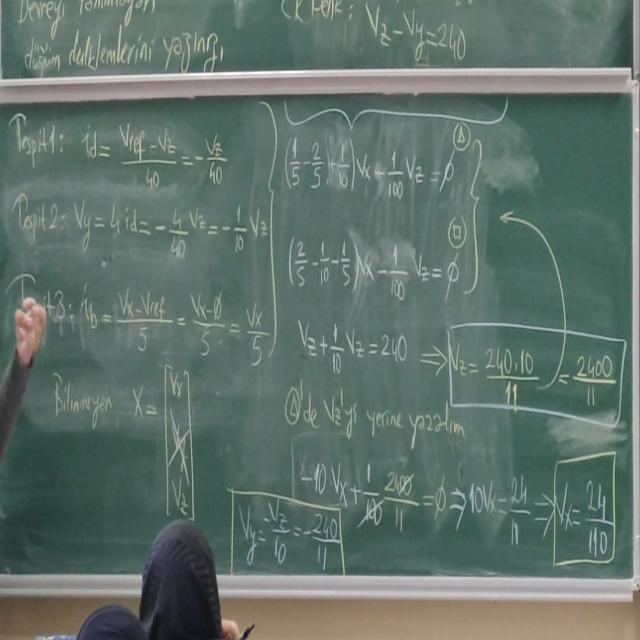math: (313, 446, 532, 556), (69, 272, 273, 370), (284, 220, 462, 309), (280, 126, 466, 206), (65, 190, 271, 262), (447, 338, 621, 422), (79, 119, 240, 186), (234, 494, 341, 578), (295, 316, 412, 384), (555, 478, 613, 559)
text: (23, 28, 223, 76), (53, 367, 116, 425), (10, 110, 66, 166), (10, 190, 61, 243)
